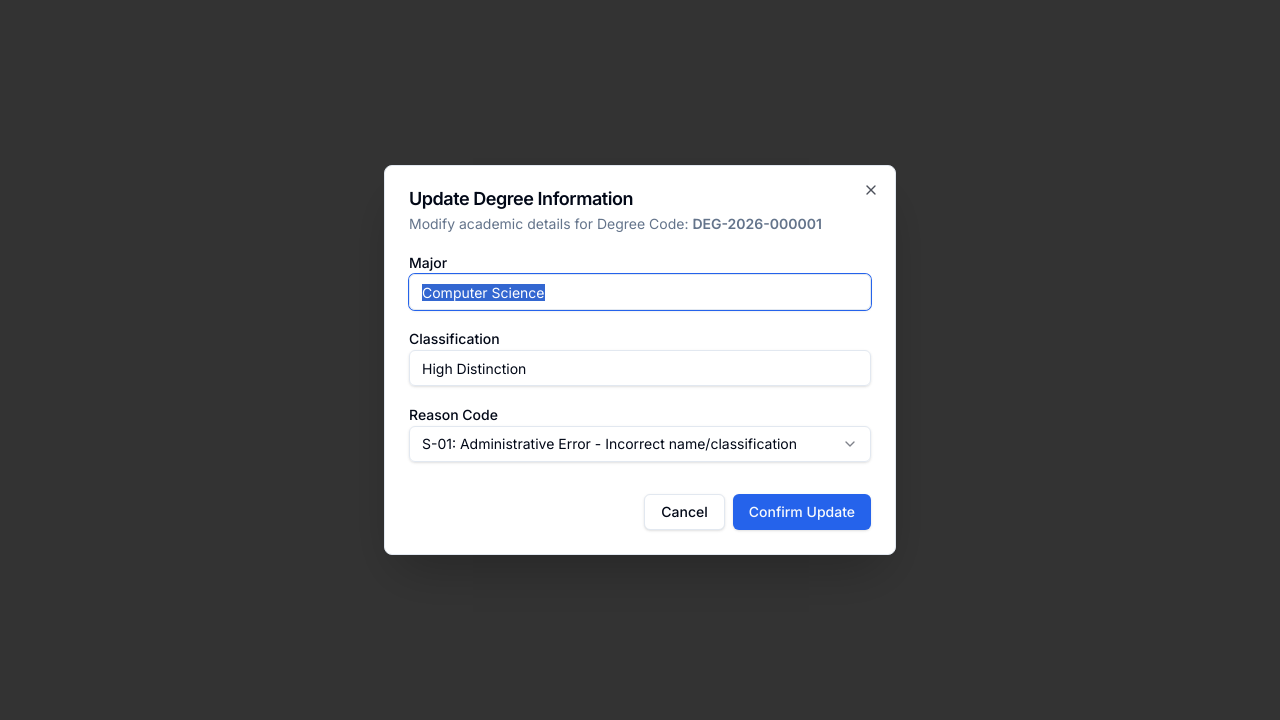
UpdateDegreeModal › shows warning alert and disables button on ambiguous outcome (500 error)
What coordinates should you click on to do the following:
click the button "Confirm Update"
I would click on:
 (802, 512)
Its box is [733,494,871,530].
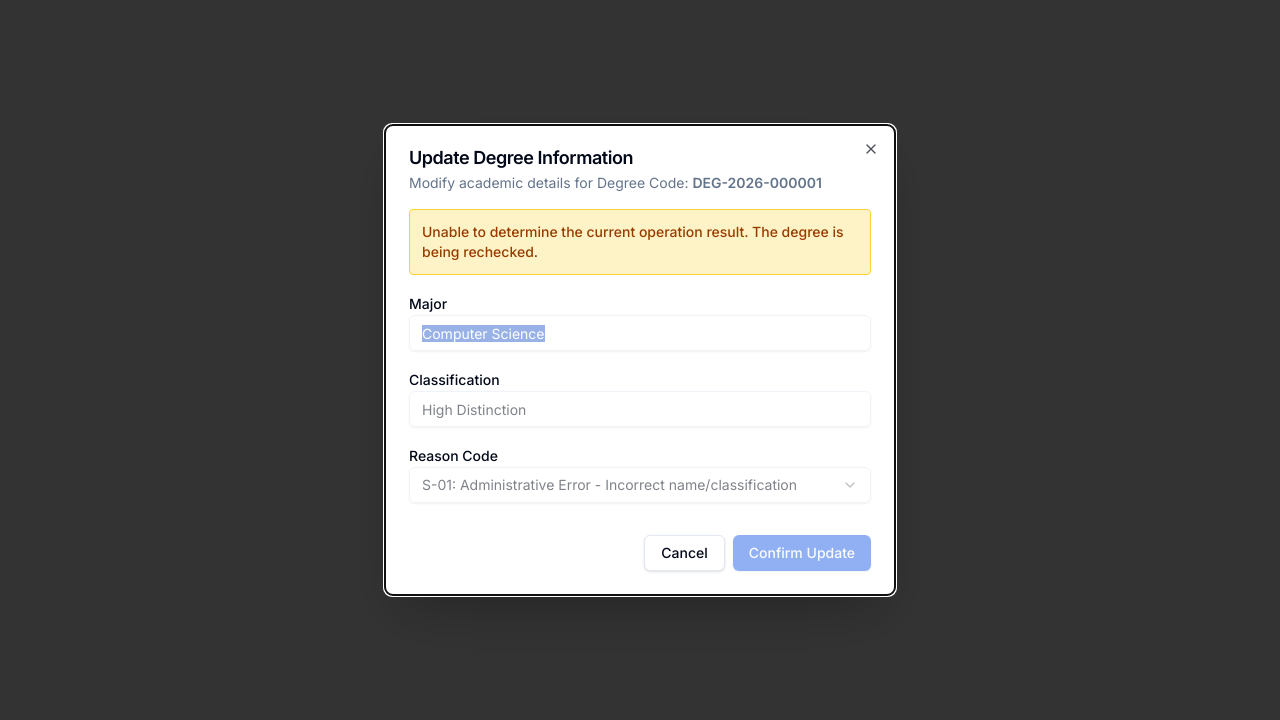
Now the text "Unable to determine the current operation result. The degree is being rechecked." is shown, box [409,209,871,275]
